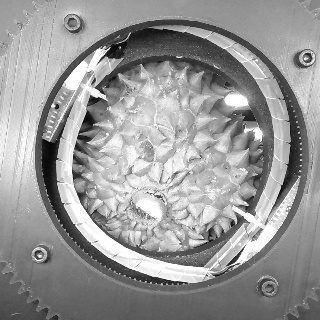base: (129, 186, 171, 226)
end: (135, 198, 163, 219)
